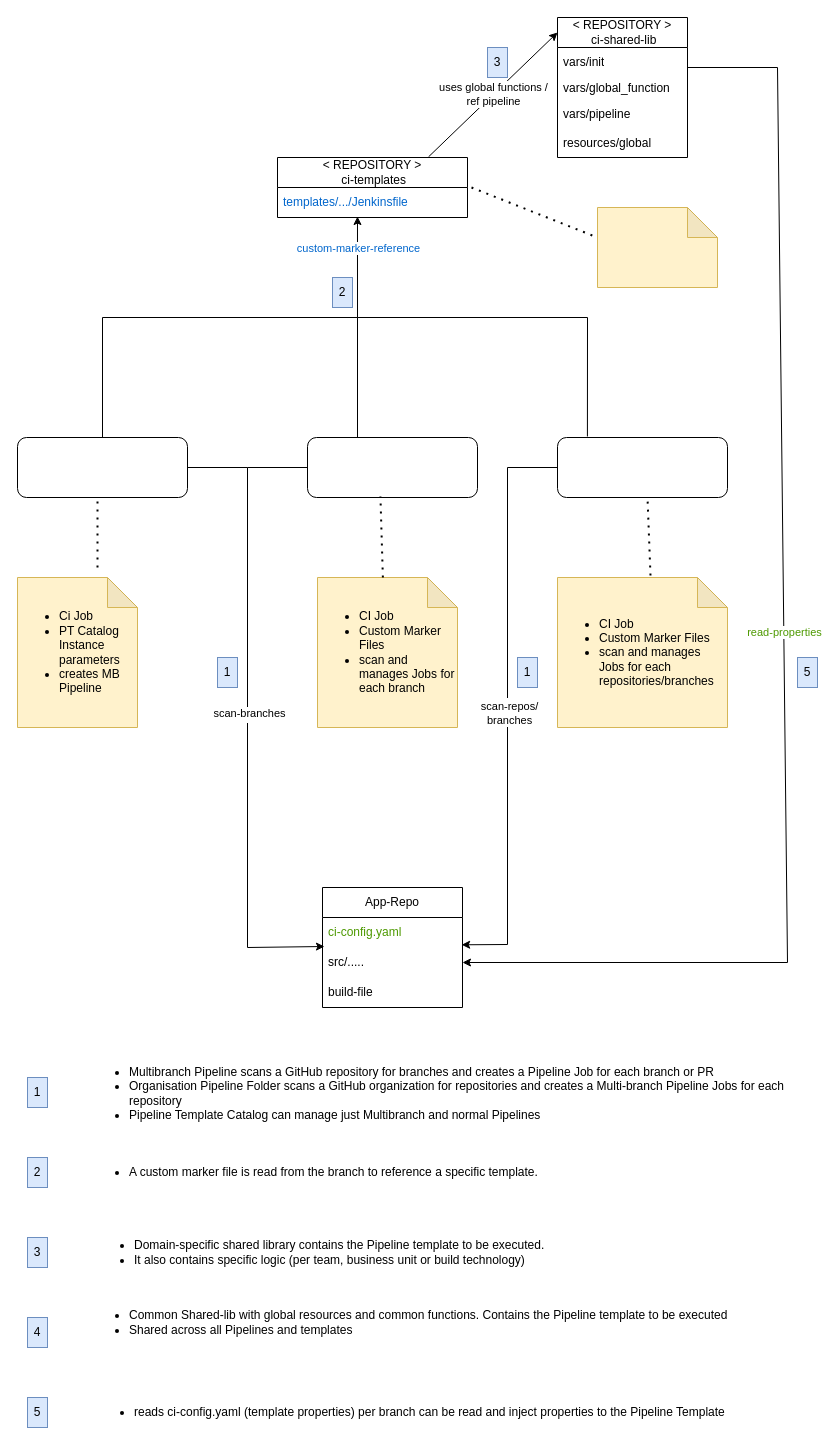
This 839x1449 diagram has some shape labels left out. Each missing label, with the centre of its shape:
MB-Pipeline: point 392,467
Orchestrates Pipeline Templates and instance parameters: point 657,247
Organisation Folder: point 642,467
Pipeline-Template-Catalog: point 102,467
